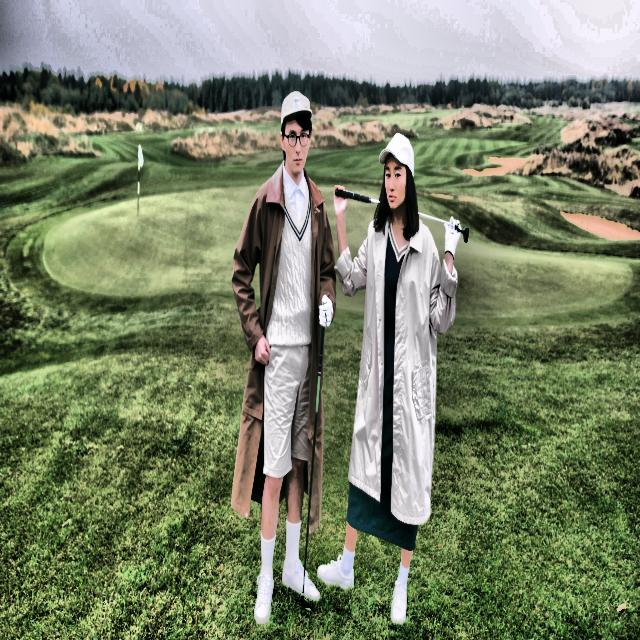gloved: (315, 288, 342, 344), (252, 322, 271, 379), (442, 212, 462, 262), (324, 182, 352, 213)
